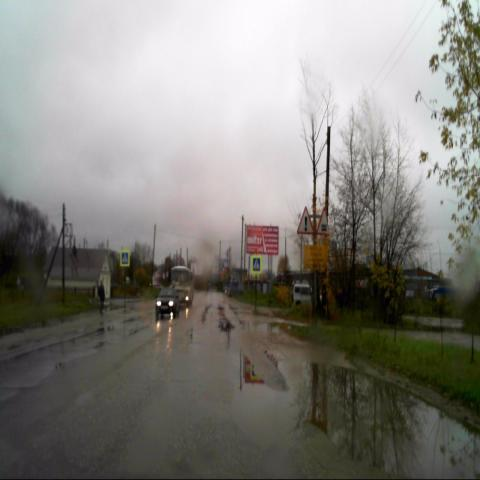1_1: (315, 207, 331, 235)
1_33: (296, 206, 315, 235)
